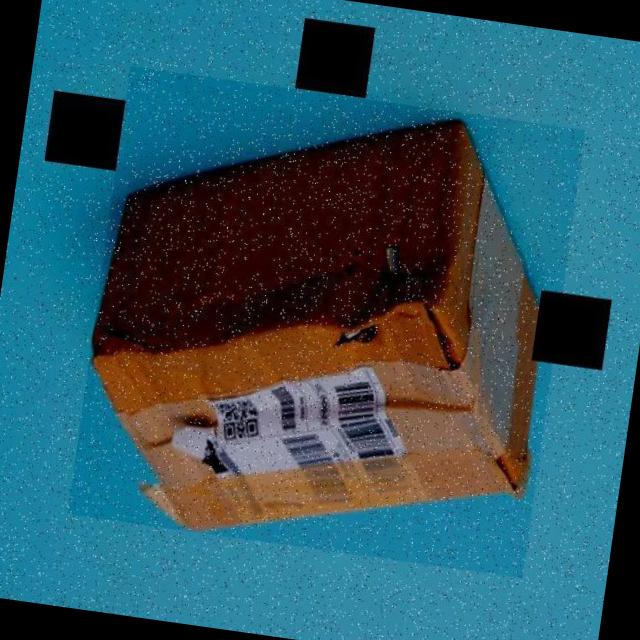box: (67, 66, 586, 579)
